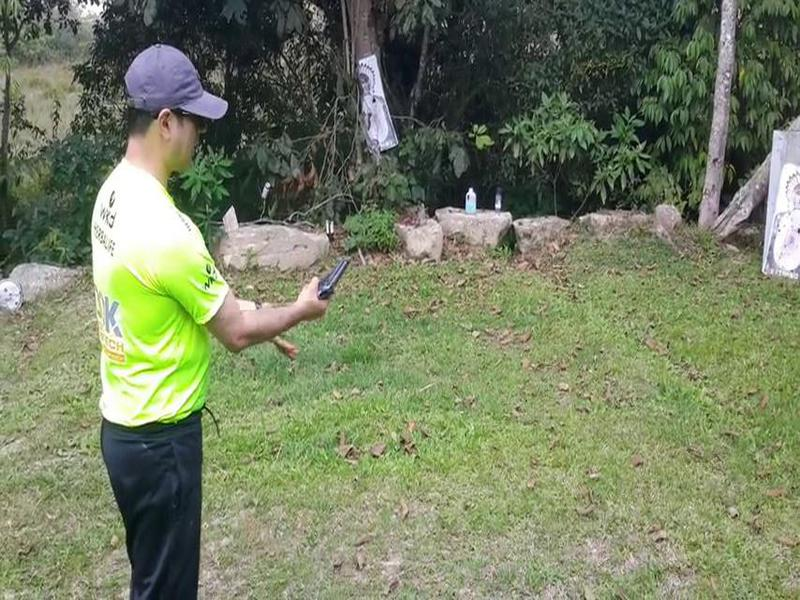Pistola: (301, 254, 366, 317)
